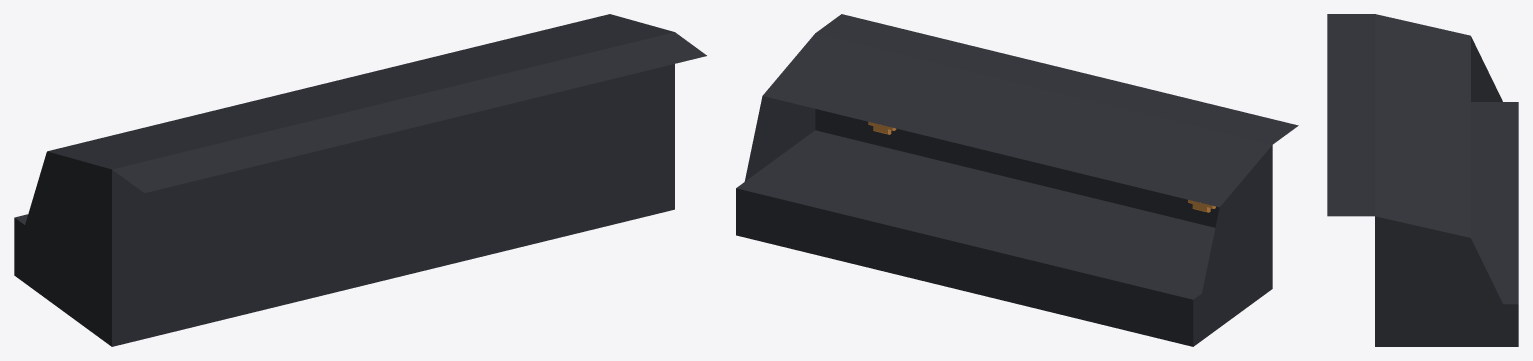
Rendered from Marco.glb.
The picture shows the model from 3 angles, left to right: view 1: azimuth 30°, elevation 25°; view 2: azimuth 150°, elevation 25°; view 3: azimuth 270°, elevation 25°; orthographic projection. The views are drawn at different scales.
Parts seen in each view (by area): view 1: Marco.001; view 2: Marco.001; view 3: Marco.001.
Boxes of the visible parts, x1,y1,x2,y2 form: Marco.001: [14, 14, 706, 346]; Marco.001: [736, 14, 1298, 346]; Marco.001: [1327, 14, 1518, 346].
Bounding box in the file's own units: 1 × 0.3012 × 0.4.
Materials: 2 (1 with a texture image).
